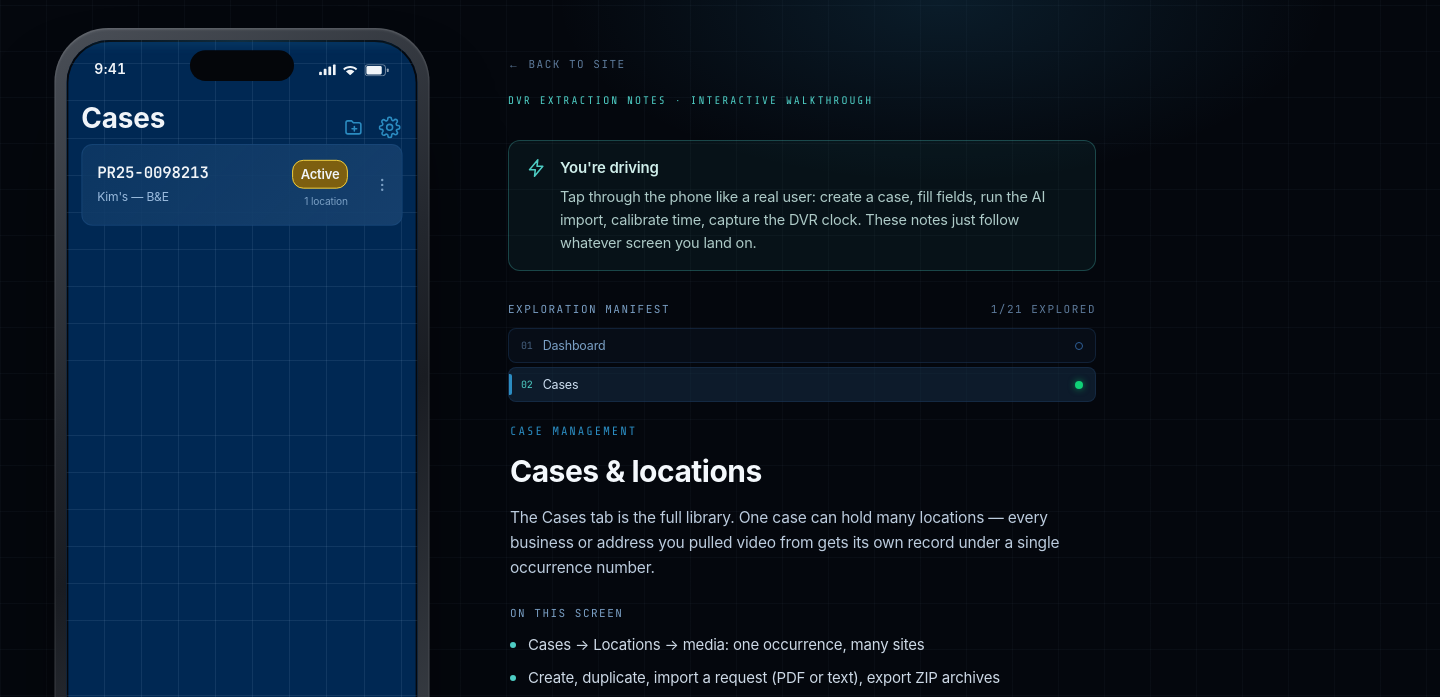
DemoExperience — location action chooser › the new row is immediately in the list and the next chooser numbers past it
Click the text "PR25-0098213" at (153, 172), box 97,162 -> 209,182
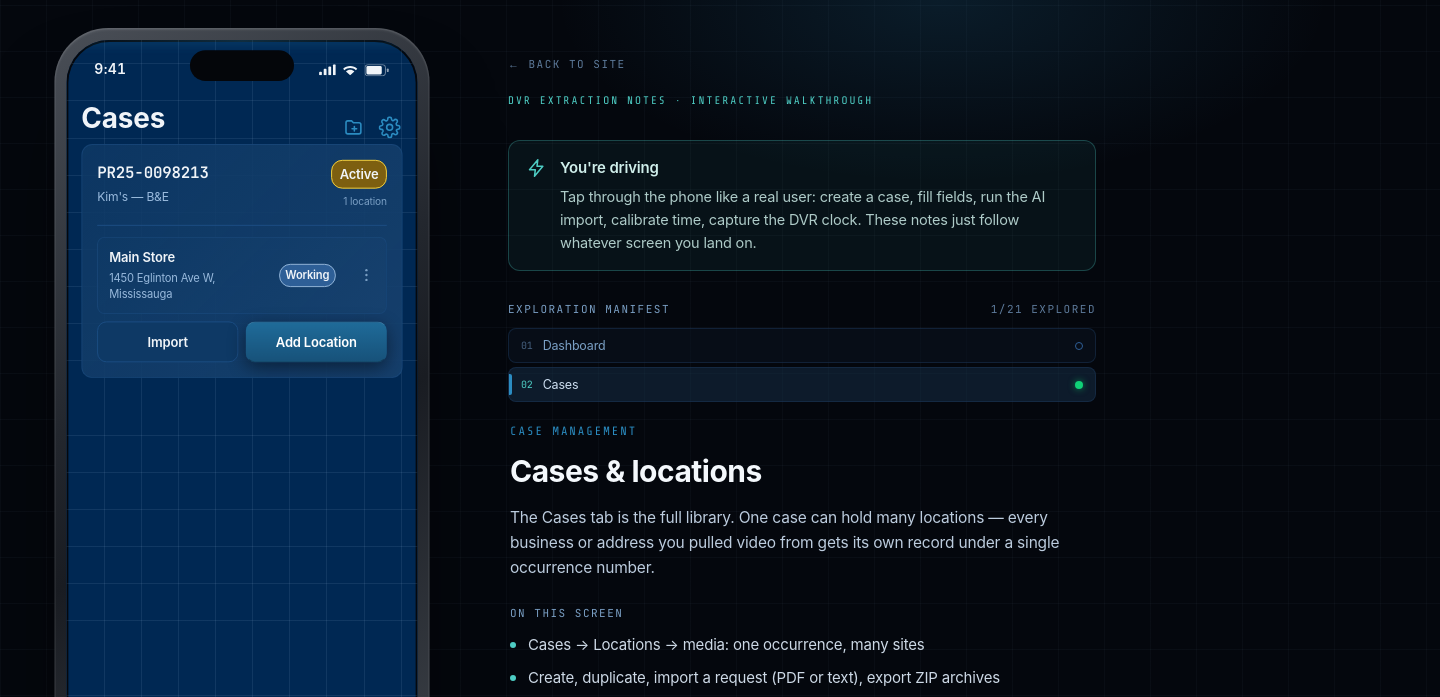
Click the button named "Actions for location Main Store" at (366, 275), box 347,238 -> 386,313
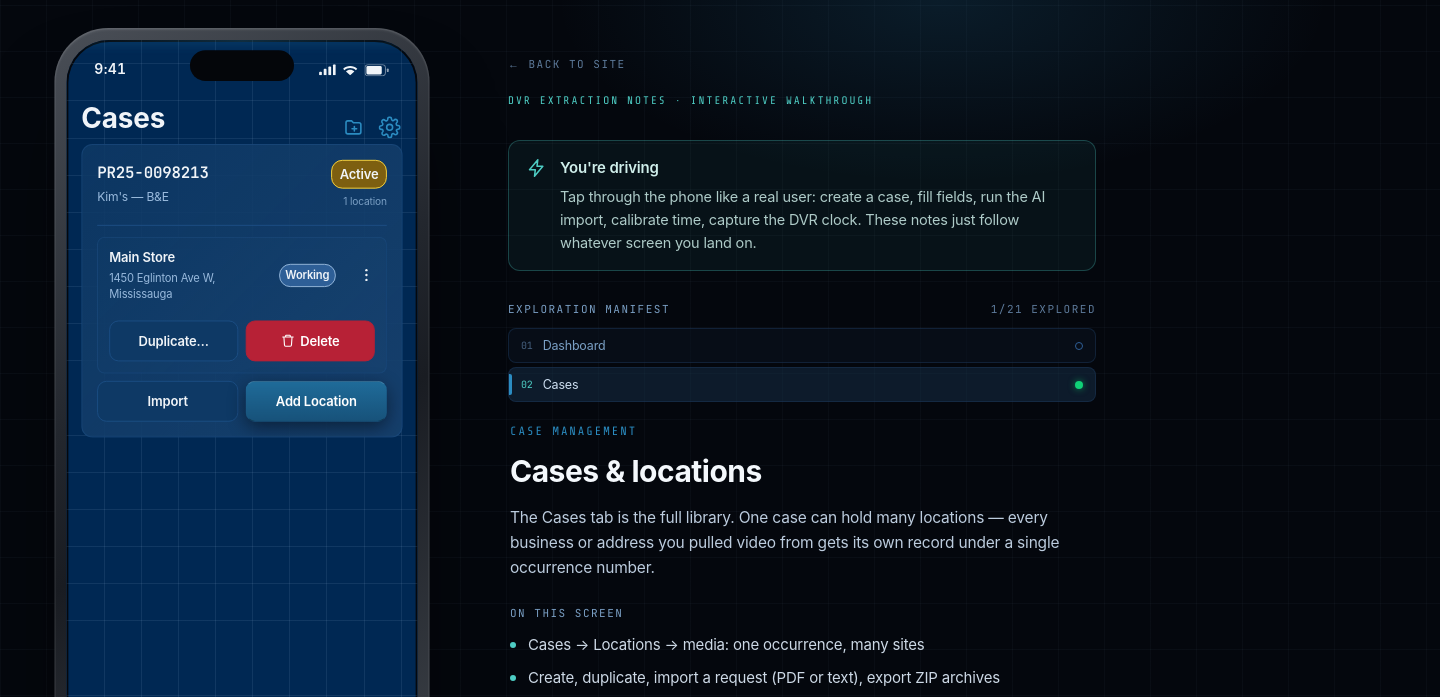
Click the button "Duplicate…" at (174, 341), box 109,320 -> 238,361
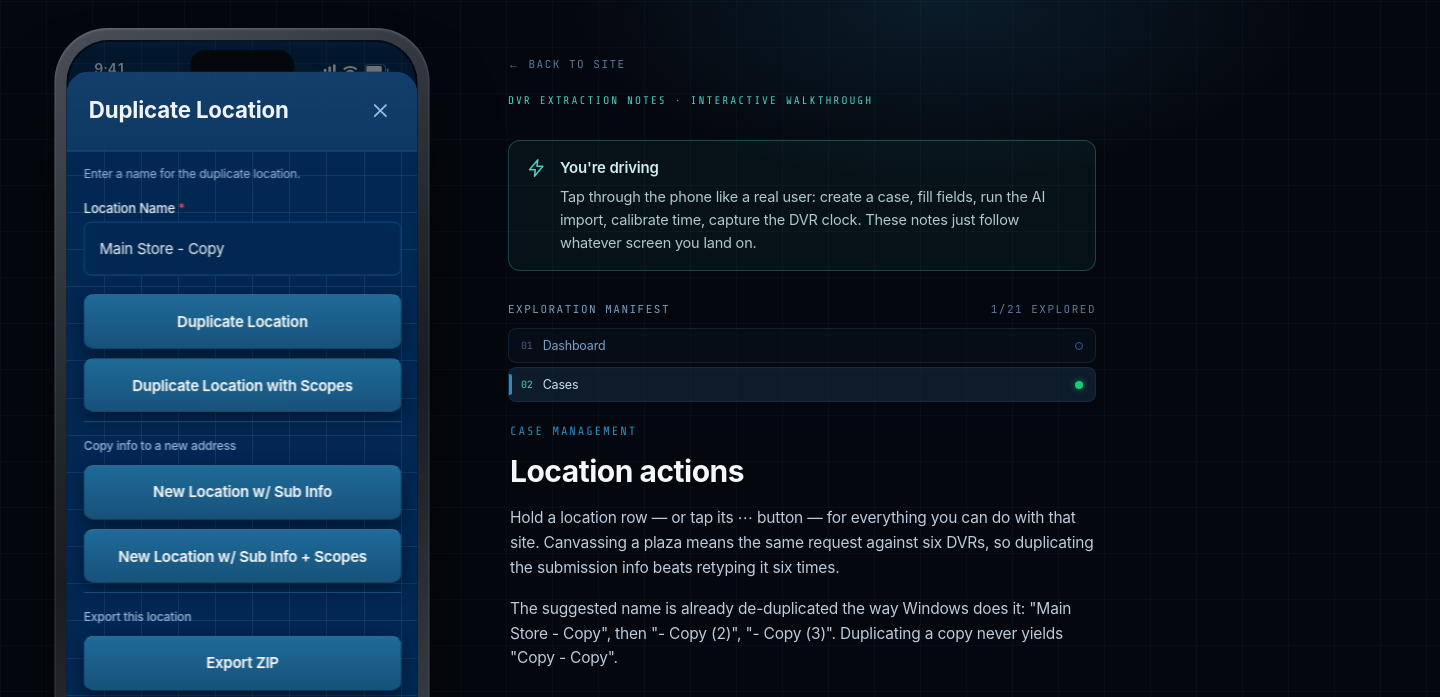
Click the button "Duplicate Location" at (242, 321), box 83,294 -> 401,348
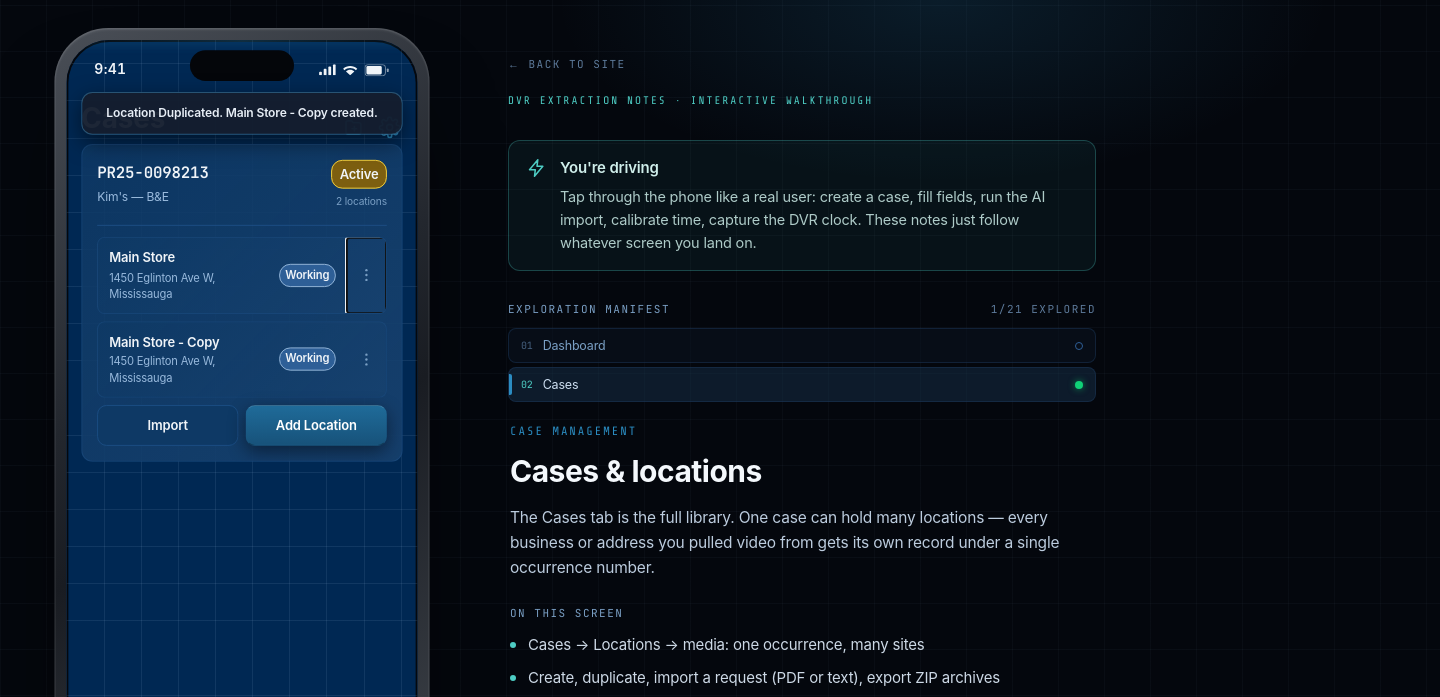
Expected: the button named "Actions for location Main Store - Copy" is shown, 347,322 -> 386,396
Click the button named "Actions for location Main Store" at (366, 275), box 347,238 -> 386,313
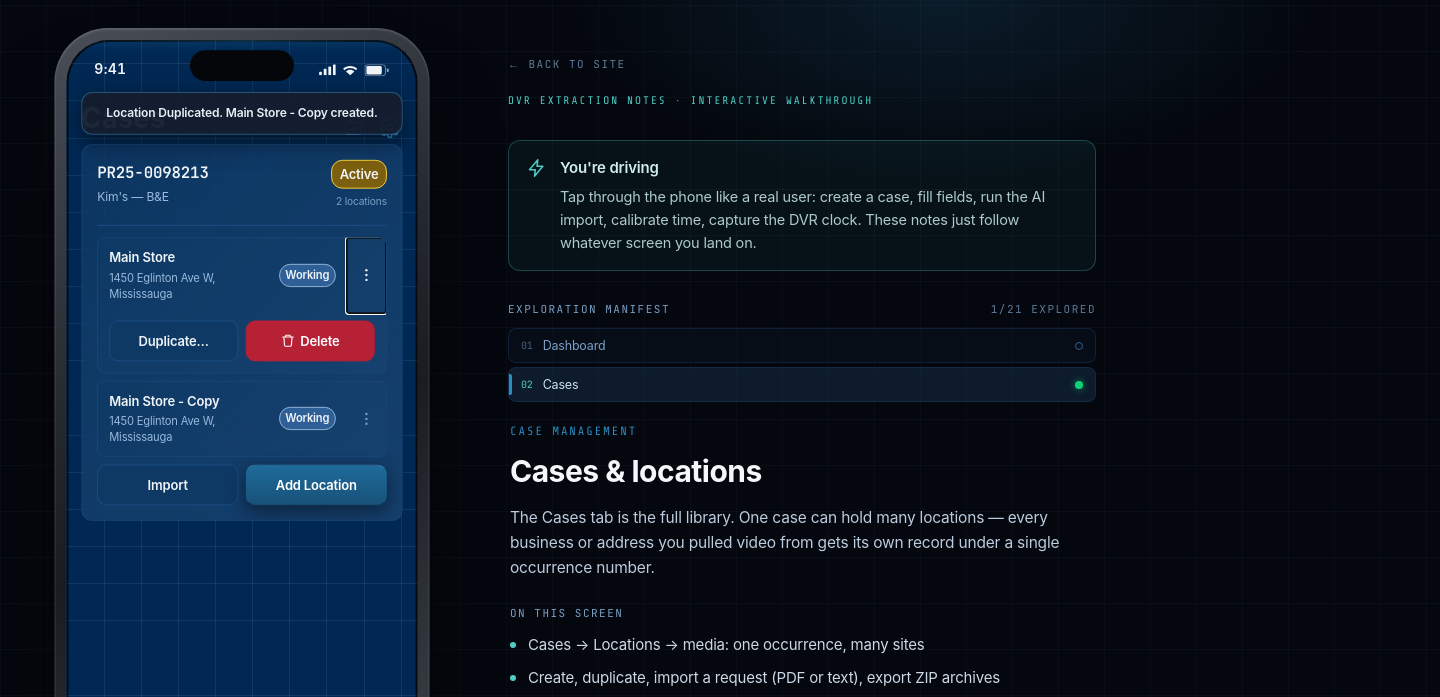
Click the button "Duplicate…" at (174, 341), box 109,320 -> 238,361
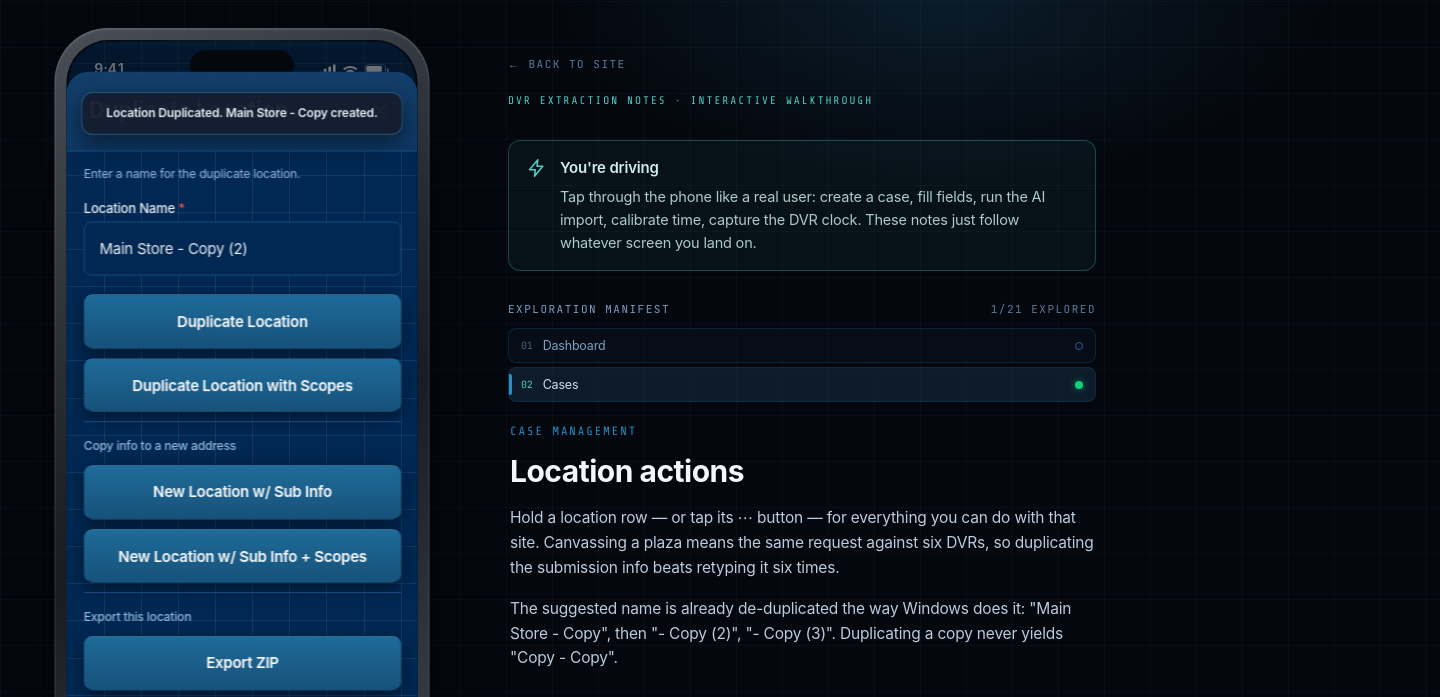
Expected: the field named "Location Name" holds "Main Store - Copy (2)", 83,221 -> 401,275
